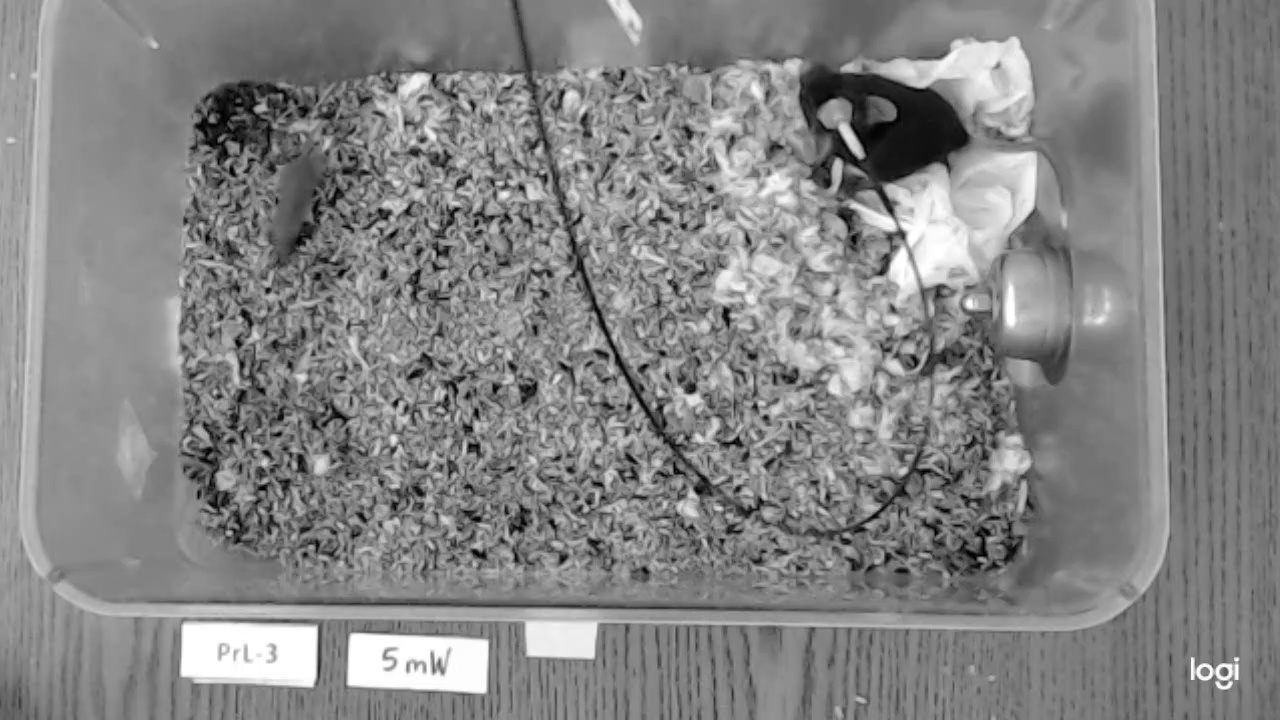child-mice: (266, 154, 321, 256)
